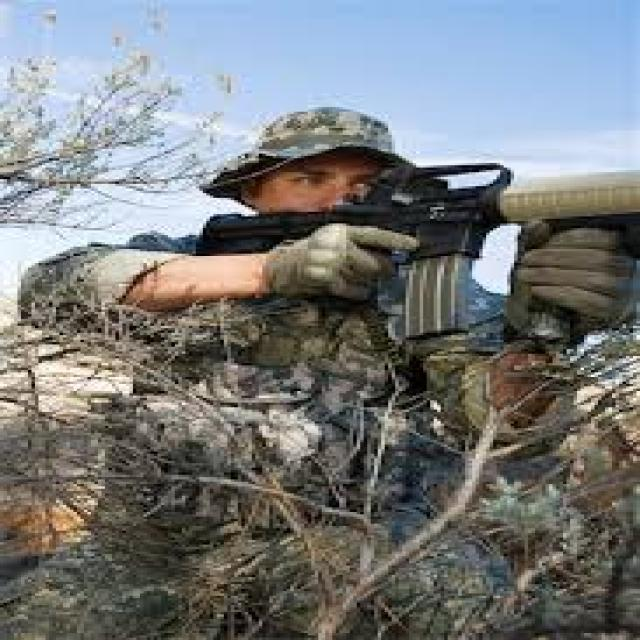soldier: (123, 96, 640, 640)
